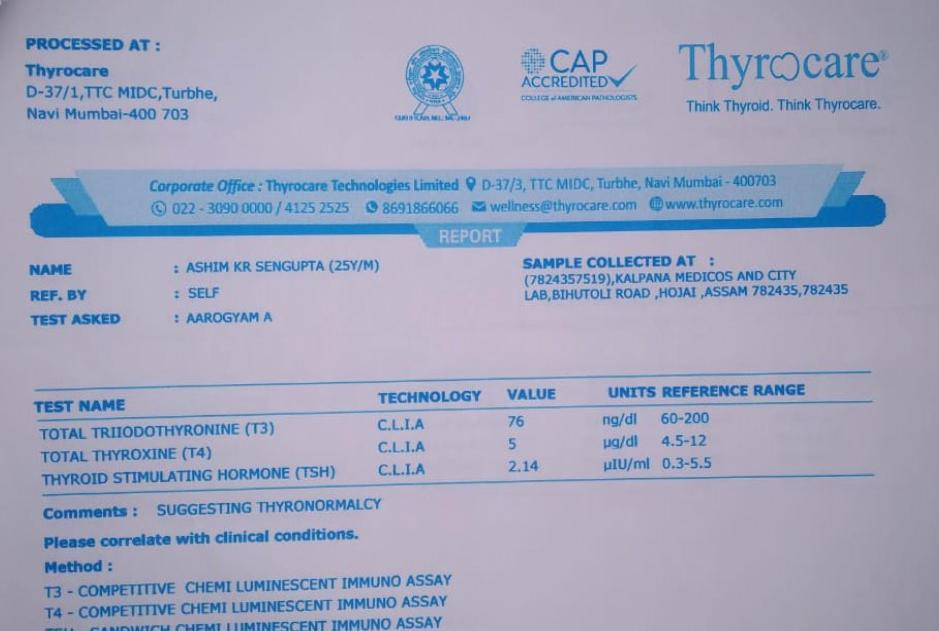Reference Range: (655, 405, 719, 477)
Test Name: (34, 417, 338, 494)
Units: (599, 406, 656, 478)
Value: (499, 408, 548, 479)
